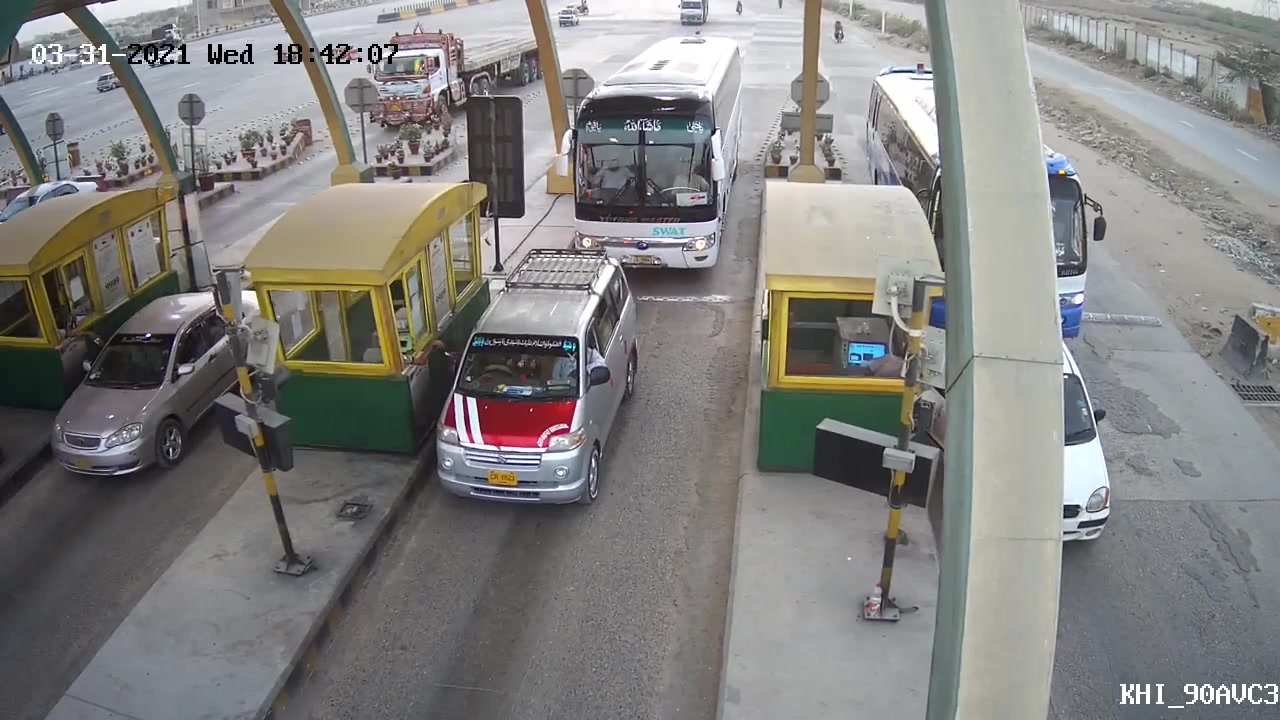F1: (420, 243, 640, 510)
F4: (568, 27, 748, 275)
